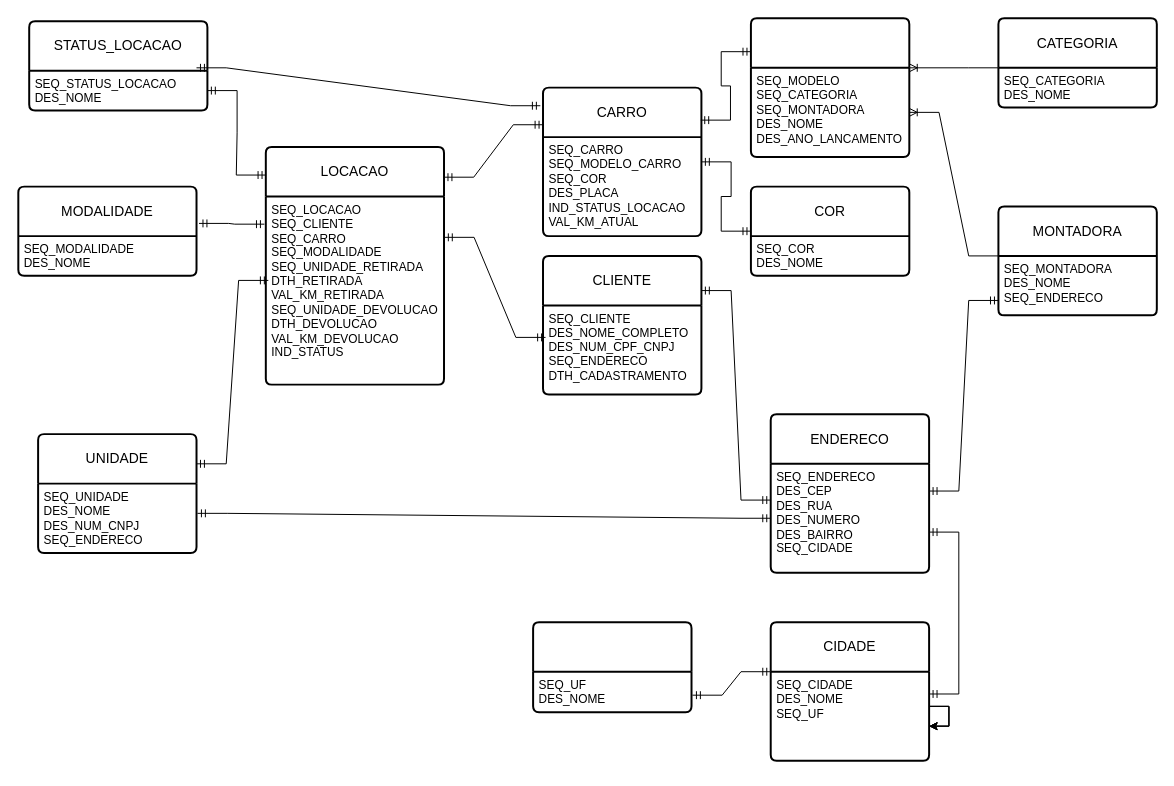
The diagram is 1174 pixels wide and 786 high, and some of its shapes have lost their labels. Here are the shapes that lost their labels. From the top down, the box of each, then its label:
(749, 17, 910, 157): MODELO_CARRO
(532, 621, 692, 713): UF
